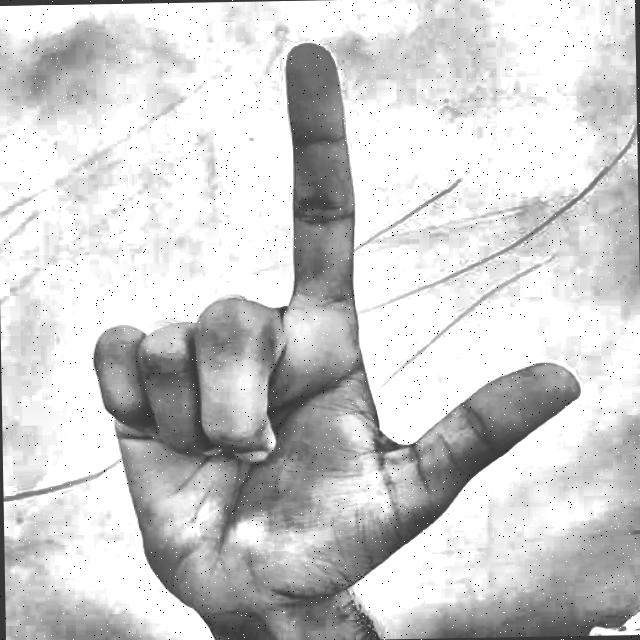La: (41, 15, 592, 639)
